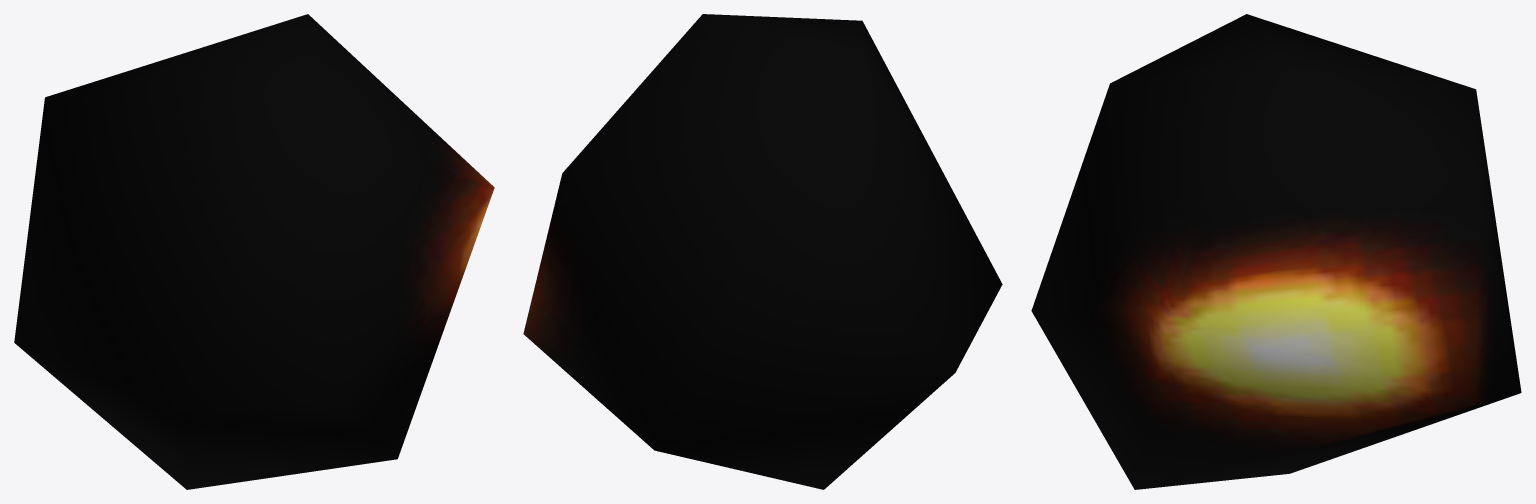
The model's file is 0473_xiaoshikuai_M.glb.
3 renders of one model, left to right at view 1: azimuth 30°, elevation 25°; view 2: azimuth 150°, elevation 25°; view 3: azimuth 270°, elevation 25°, orthographic. The views are drawn at different scales.
Bounding box in the file's own units: 2.08 × 2.2 × 2.09.
1 material, 1 textured.
